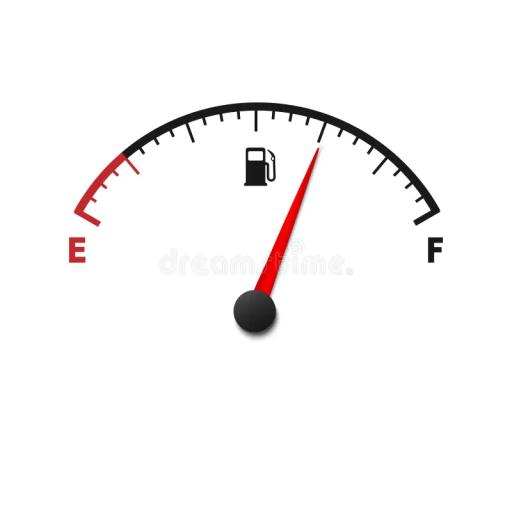empty: (65, 232, 89, 269)
fuel_icon: (241, 143, 278, 189)
full: (424, 232, 446, 267)
guage_area: (59, 96, 456, 350)
needle_center: (228, 280, 288, 340)
needle_tip: (300, 145, 328, 184)
